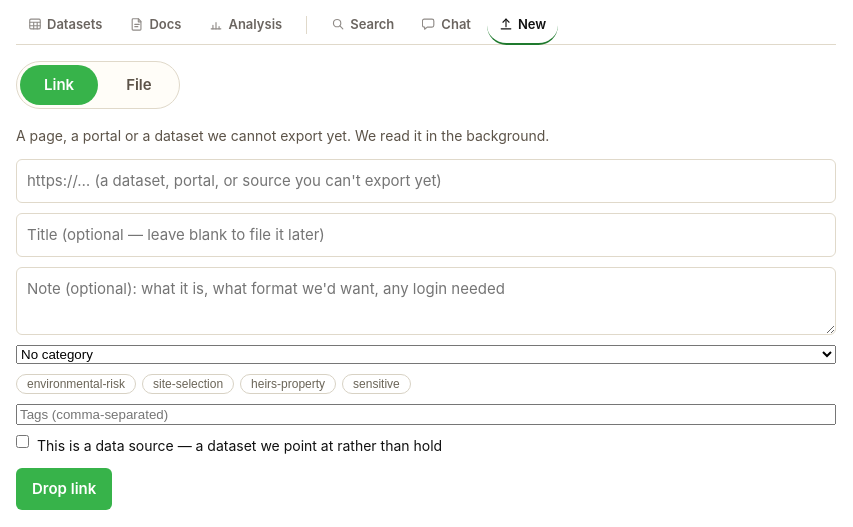
Test: the chooser › stays out of the URL
Click the tab with test id "choose-file". click: (139, 85)
box: [102, 65, 176, 105]
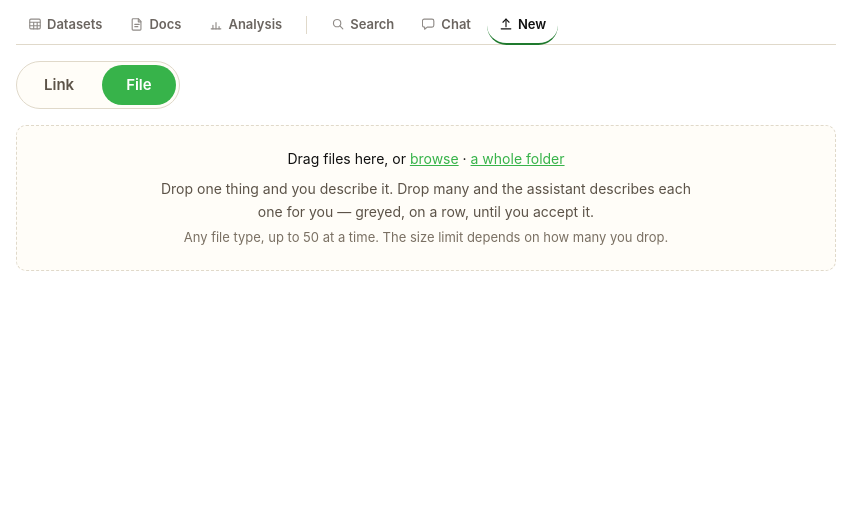
Now the element with test id "new-drop-zone" is shown, box [16, 125, 836, 271]
